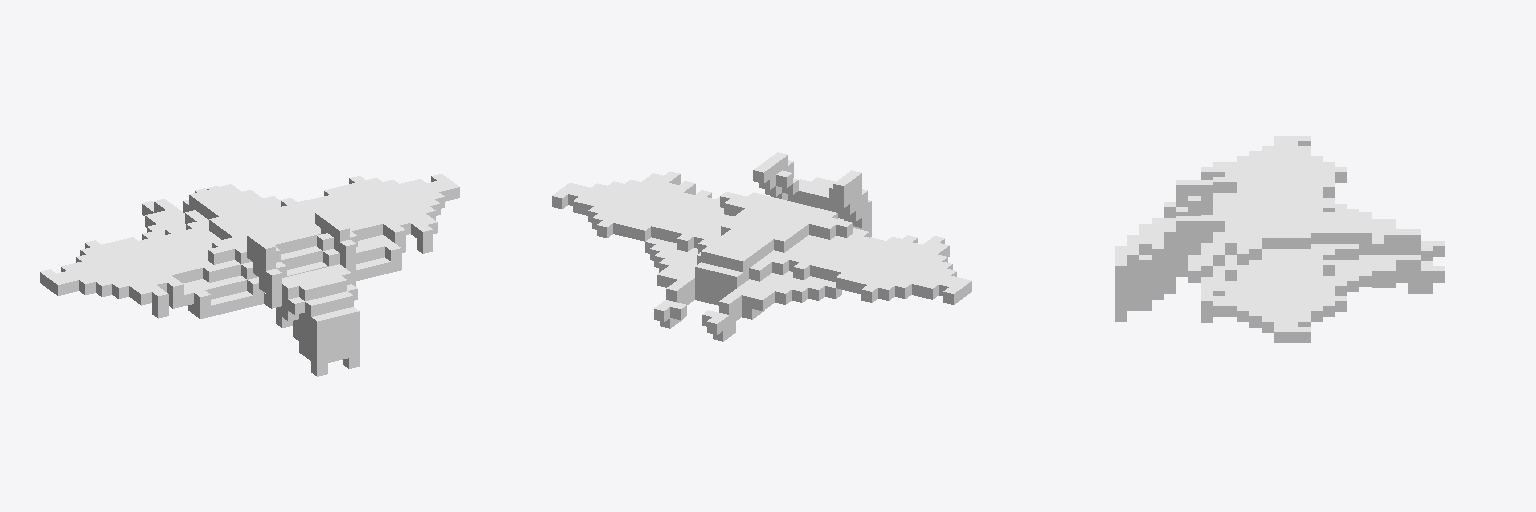
Rendered from Murcielago.obj.
3 views of the same model, side by side, from view 1: azimuth 30°, elevation 25°; view 2: azimuth 150°, elevation 25°; view 3: azimuth 270°, elevation 25° (orthographic).
Visible parts, largest first — view 1: object 1; view 2: object 1; view 3: object 1.
Part boxes in pixels (bbox=[...]): object 1: bbox=[40, 174, 459, 376]; object 1: bbox=[552, 152, 971, 341]; object 1: bbox=[1115, 136, 1444, 342].
Size of the model in its own units: 3.8 by 1 by 2.7.